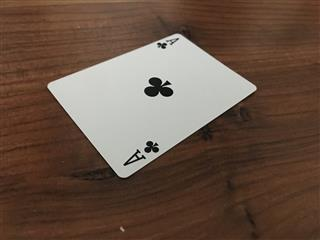AceOfClubs: (46, 32, 257, 178)
